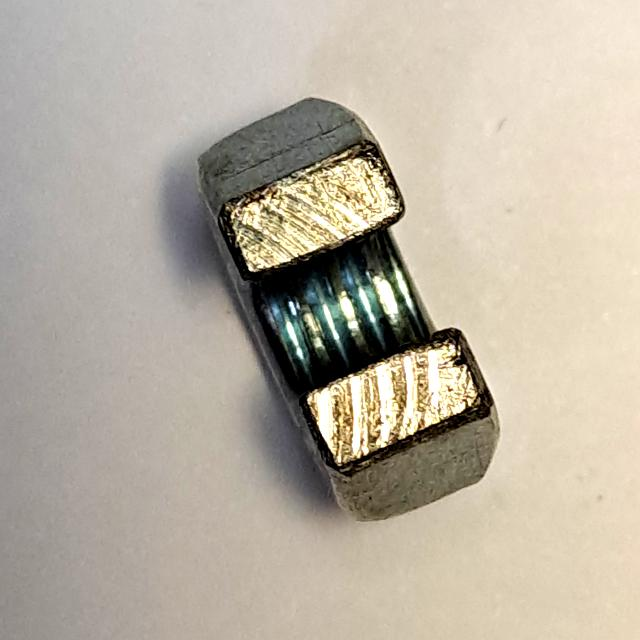Side-Fracture: (179, 77, 519, 534)
